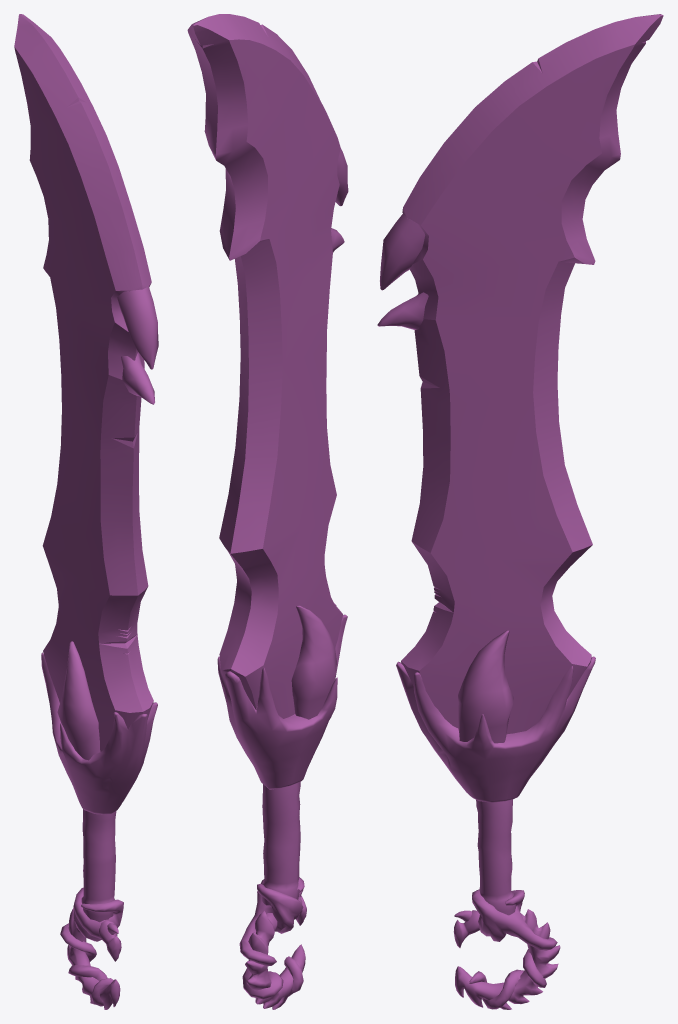
Rendered from SM_ROCA_SWORD.fbx.
3 views of the same model, side by side, from view 1: azimuth 30°, elevation 25°; view 2: azimuth 150°, elevation 25°; view 3: azimuth 270°, elevation 25° (orthographic). The views are drawn at different scales.
Parts seen in each view (by area): view 1: SM_ROCA_SWORD; view 2: SM_ROCA_SWORD; view 3: SM_ROCA_SWORD.
Boxes of the visible parts, x1=… form: SM_ROCA_SWORD: x1=14, y1=14, x2=158, y2=1009; SM_ROCA_SWORD: x1=187, y1=14, x2=348, y2=1009; SM_ROCA_SWORD: x1=377, y1=14, x2=663, y2=1009.
Size of the model in its own units: 14.35 by 145 by 37.72.
